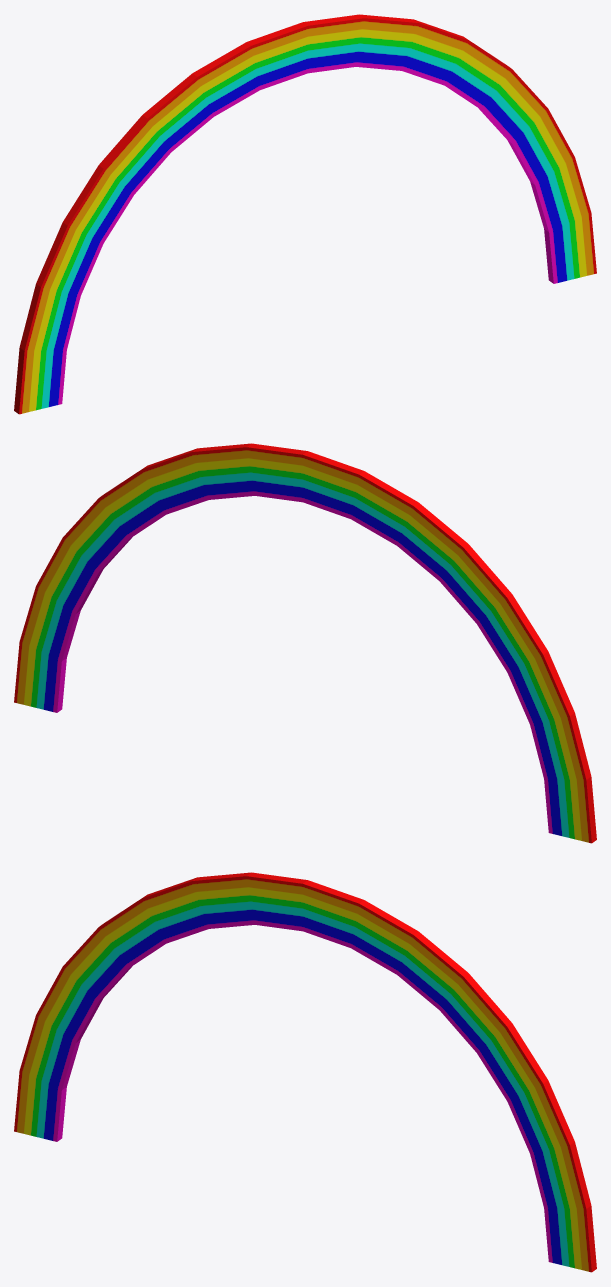
Rendered from rainbow.obj.
The picture shows the model from 3 angles, top to bottom: view 1: azimuth 30°, elevation 25°; view 2: azimuth 150°, elevation 25°; view 3: azimuth 330°, elevation 25°; orthographic projection.
Parts seen in each view (by area): view 1: 円; view 2: 円; view 3: 円.
Part boxes in pixels (x1,y1,x2,y2): 円: (14, 14, 596, 414); 円: (14, 443, 596, 843); 円: (14, 872, 596, 1272).
Size of the model in its own units: 7.19 by 3.78 by 0.109.
1 material, 1 textured.
